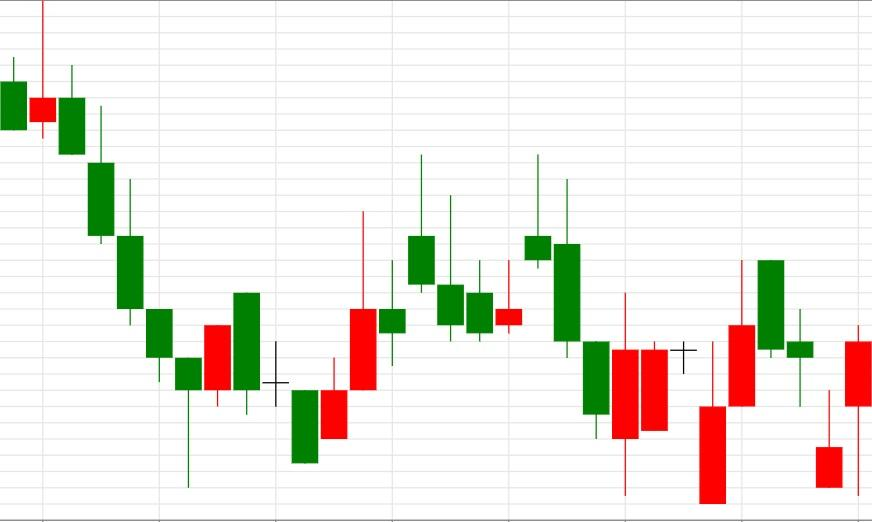shooting_star_fall: (465, 155, 553, 342)
